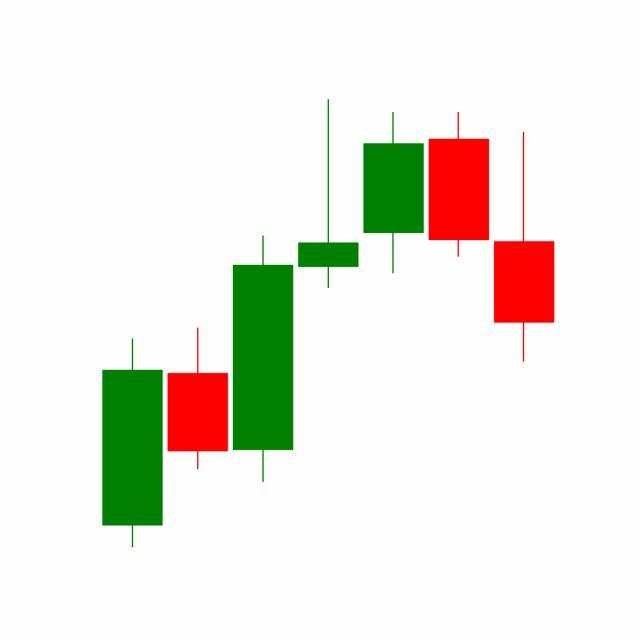Three Outside Up-Down: (360, 110, 556, 366)
